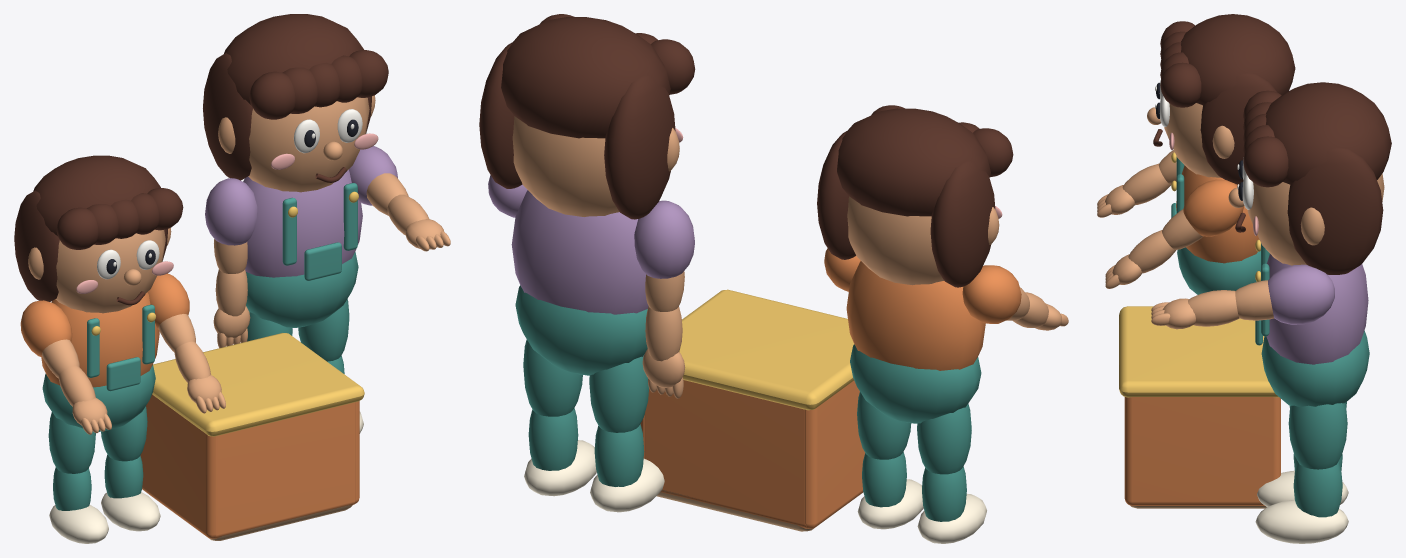
Rendered from ava-need-help.glb.
3 renders of one model, left to right at view 1: azimuth 30°, elevation 25°; view 2: azimuth 150°, elevation 25°; view 3: azimuth 270°, elevation 25°, orthographic. The views are drawn at different scales.
Parts seen in each view (by area): view 1: box side.002, box lid, box side, soft shirt.001, clay head.001, hair cap.001, hair cap, clay head, overalls.001, soft shirt, bob hair.002, bob hair (+44 smaller); view 2: box side.003, box lid, hair cap.001, soft shirt.001, hair cap, soft shirt, bob hair.002, overalls.001, clay head.001, box side, overalls, bob hair (+26 smaller); view 3: box side.001, box lid, bob hair.003, hair cap.001, hair cap, soft shirt.001, overalls.001, bob hair.001, trouser leg.003, shirt sleeve.003, clay head.001, little shoe.003 (+22 smaller).
Part boxes in pixels (x1=…): box side.002: x1=213, y1=402, x2=355, y2=538; box lid: x1=152, y1=333, x2=364, y2=436; box side: x1=140, y1=394, x2=216, y2=538; soft shirt.001: x1=243, y1=169, x2=362, y2=277; clay head.001: x1=248, y1=97, x2=369, y2=192; hair cap.001: x1=224, y1=14, x2=363, y2=104; hair cap: x1=33, y1=155, x2=160, y2=235; clay head: x1=55, y1=229, x2=165, y2=313; overalls.001: x1=246, y1=252, x2=358, y2=327; soft shirt: x1=41, y1=292, x2=159, y2=387; bob hair.002: x1=203, y1=52, x2=252, y2=180; bob hair: x1=14, y1=190, x2=59, y2=301; box side.003: x1=644, y1=380, x2=808, y2=528; box lid: x1=679, y1=289, x2=853, y2=410; hair cap.001: x1=501, y1=17, x2=670, y2=138; soft shirt.001: x1=511, y1=190, x2=648, y2=314; hair cap: x1=837, y1=108, x2=990, y2=216; soft shirt: x1=846, y1=261, x2=985, y2=370; bob hair.002: x1=604, y1=75, x2=675, y2=219; overalls.001: x1=515, y1=285, x2=647, y2=375; clay head.001: x1=512, y1=116, x2=619, y2=216; box side: x1=805, y1=380, x2=864, y2=528; overalls: x1=850, y1=344, x2=981, y2=423; bob hair: x1=930, y1=161, x2=995, y2=287; box side.001: x1=1124, y1=397, x2=1280, y2=505; box lid: x1=1119, y1=306, x2=1278, y2=397; bob hair.003: x1=1287, y1=148, x2=1383, y2=274; hair cap.001: x1=1265, y1=82, x2=1391, y2=184; hair cap: x1=1181, y1=14, x2=1295, y2=105; soft shirt.001: x1=1266, y1=254, x2=1368, y2=364; overalls.001: x1=1261, y1=330, x2=1369, y2=406; bob hair.001: x1=1200, y1=73, x2=1276, y2=184; trouser leg.003: x1=1288, y1=403, x2=1347, y2=469; shirt sleeve.003: x1=1268, y1=264, x2=1334, y2=324; clay head.001: x1=1247, y1=173, x2=1384, y2=265; little shoe.003: x1=1255, y1=500, x2=1348, y2=543.
Bounding box in the file's own units: 2.21 × 2.15 × 1.32.
